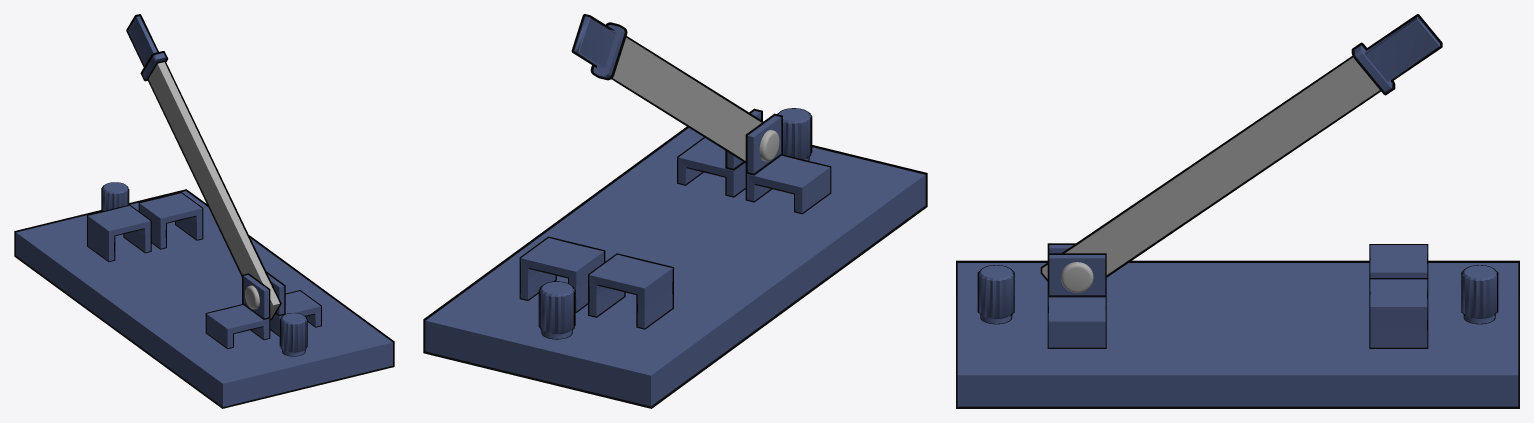
3 views of the same model, side by side, from view 1: azimuth 30°, elevation 25°; view 2: azimuth 150°, elevation 25°; view 3: azimuth 270°, elevation 25° (orthographic). The views are drawn at different scales.
Parts seen in each view (by area): view 1: 立方体, 平面.002, 平面.006, 平面, 立方体.086, 平面.008, 平面.016, 柱体.021, 平面.007, 立方体.001, 柱体.001, 平面.013 (+3 smaller); view 2: 立方体, 平面.002, 平面.006, 平面, 立方体.086, 平面.008, 平面.007, 立方体.001, 柱体.001, 柱体.021, 平面.013, 平面.016 (+3 smaller); view 3: 立方体, 平面.002, 平面, 立方体.086, 立方体.001, 平面.007, 柱体.001, 柱体.021, 平面.006, 平面.016, 平面.001, 柱体 (+2 smaller).
Part boxes in pixels (x1,y1,x2,y2): 立方体: [16, 191, 392, 406]; 平面.002: [148, 62, 279, 318]; 平面.006: [88, 205, 150, 261]; 平面: [139, 193, 202, 248]; 立方体.086: [14, 189, 394, 408]; 平面.008: [206, 305, 269, 347]; 平面.016: [147, 60, 281, 320]; 柱体.021: [280, 313, 306, 356]; 平面.007: [270, 291, 320, 335]; 立方体.001: [128, 16, 166, 78]; 柱体.001: [102, 182, 128, 210]; 平面.013: [243, 275, 268, 318]; 立方体: [425, 128, 925, 406]; 平面.002: [613, 37, 761, 160]; 平面.006: [589, 254, 672, 328]; 平面: [520, 238, 603, 311]; 立方体.086: [423, 126, 927, 408]; 平面.008: [747, 155, 830, 212]; 平面.007: [678, 138, 745, 196]; 立方体.001: [574, 16, 624, 77]; 柱体.001: [539, 282, 574, 338]; 柱体.021: [778, 108, 811, 160]; 平面.013: [747, 115, 781, 173]; 平面.016: [611, 36, 763, 162]; 立方体: [957, 263, 1518, 406]; 平面.002: [1042, 57, 1379, 278]; 平面: [1370, 279, 1427, 347]; 立方体.086: [956, 260, 1519, 408]; 立方体.001: [1354, 16, 1440, 92]; 平面.007: [1048, 297, 1105, 347]; 柱体.001: [1462, 265, 1496, 323]; 柱体.021: [979, 265, 1013, 323]; 平面.006: [1370, 245, 1427, 277]; 平面.016: [1040, 56, 1380, 281]; 平面.001: [1049, 255, 1105, 295]; 柱体: [1061, 262, 1093, 292].
Bounding box in the file's own units: 0.9088 × 1.25 × 1.9.
